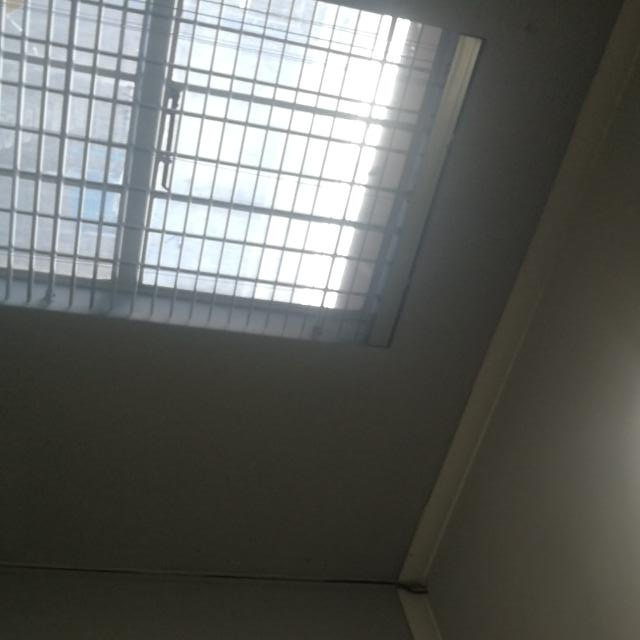fluorescent tube: (609, 321, 640, 640)
